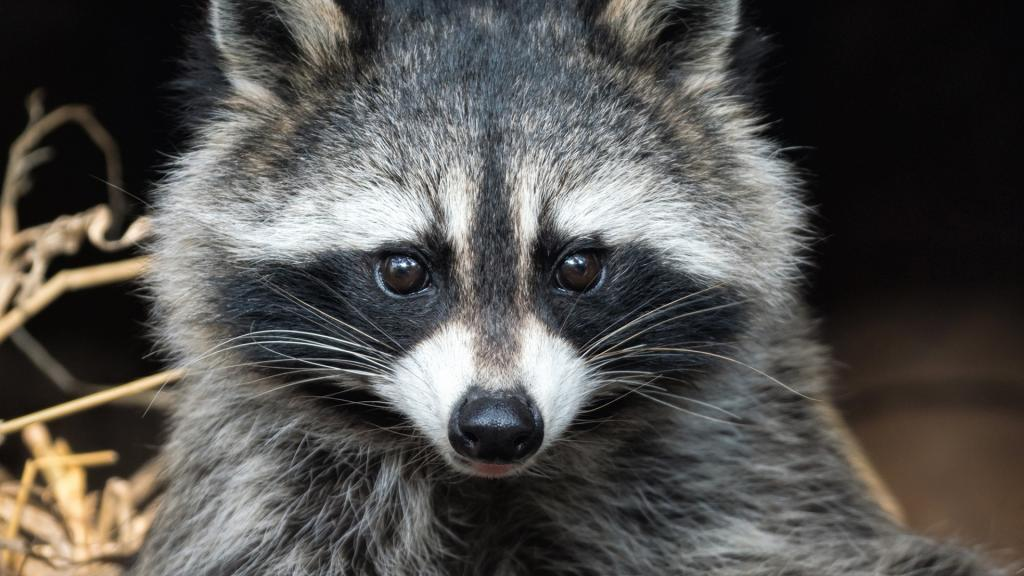raccoon: (121, 4, 988, 576)
